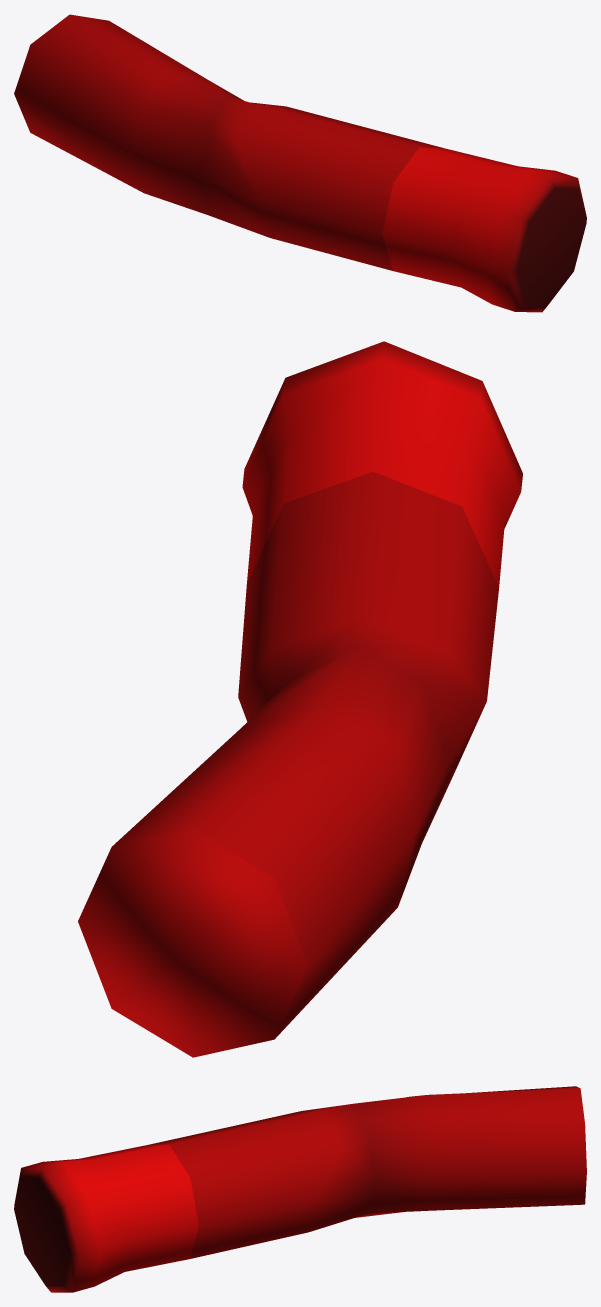
Rendered from CigaretteButt001.glb.
3 views of the same model, one above another, from view 1: azimuth 30°, elevation 25°; view 2: azimuth 150°, elevation 25°; view 3: azimuth 270°, elevation 25° (orthographic). The views are drawn at different scales.
Parts seen in each view (by area): view 1: CigaretteButt001; view 2: CigaretteButt001; view 3: CigaretteButt001.
Boxes of the visible parts, x1,y1,x2,y2 form: CigaretteButt001: (14,14,586,312); CigaretteButt001: (78,341,522,1057); CigaretteButt001: (14,1086,586,1292).
Bounding box in the file's own units: 0.1551 × 0.0676 × 0.2755.
